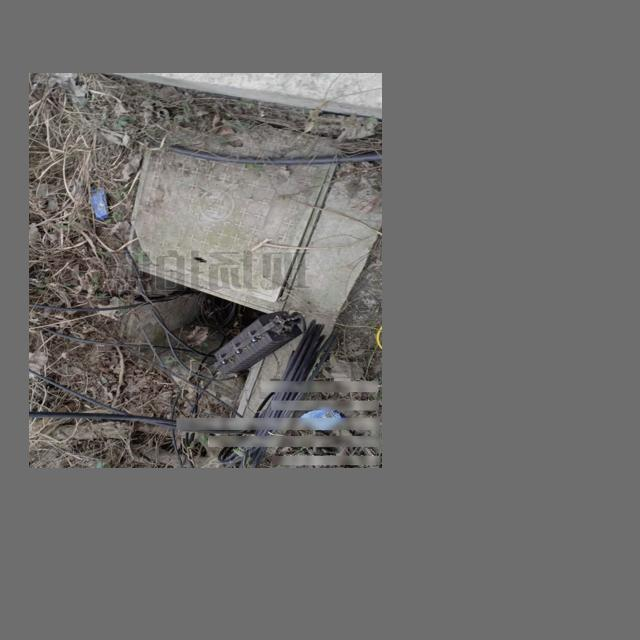lose: (111, 116, 341, 428)
